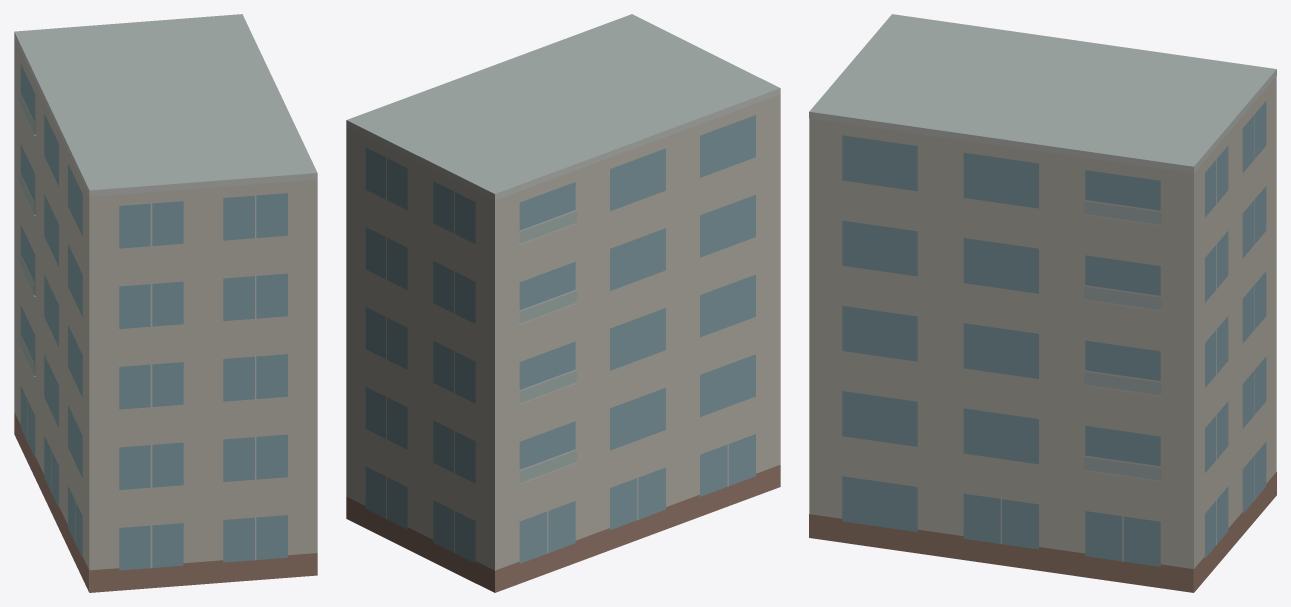
File: survey-upis-32849539.glb
3 renders of one model, left to right at view 1: azimuth 30°, elevation 25°; view 2: azimuth 150°, elevation 25°; view 3: azimuth 270°, elevation 25°, orthographic. The views are drawn at different scales.
Parts seen in each view (by area): view 1: survey-upis-32849539.tmp; view 2: survey-upis-32849539.tmp; view 3: survey-upis-32849539.tmp.
Boxes of the visible parts, x1,y1,x2,y2 form: survey-upis-32849539.tmp: (14, 14, 317, 592); survey-upis-32849539.tmp: (346, 14, 780, 592); survey-upis-32849539.tmp: (809, 14, 1276, 592).
Bounding box in the file's own units: 11.92 × 15.5 × 15.43.
